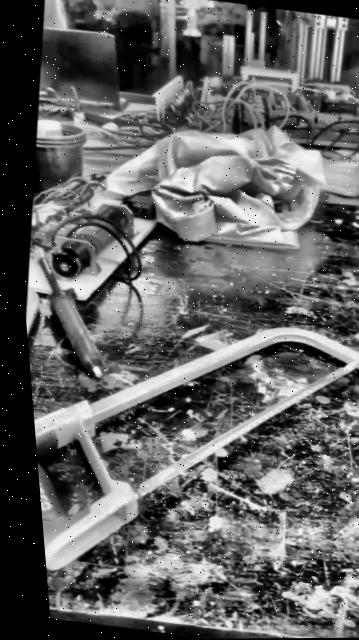pot: (26, 120, 94, 200)
